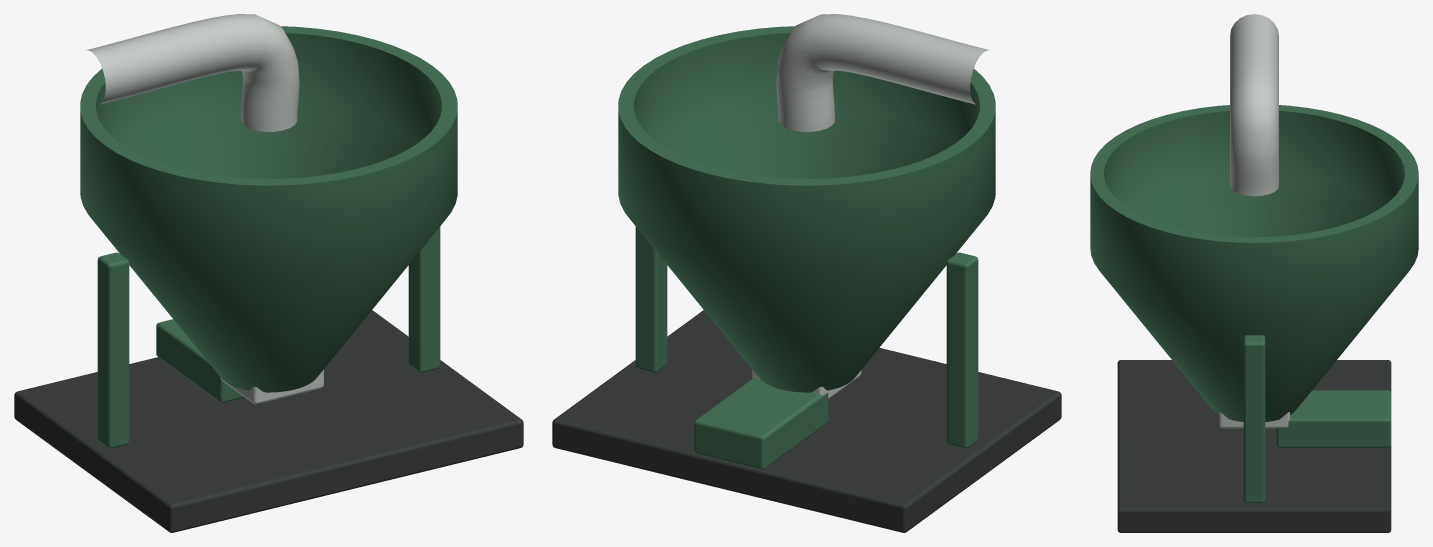
Rendered from sawmill-and-timber-yard-sawdust-collection-hopper-9fb7a7b9__31180.glb.
The picture shows the model from 3 angles, left to right: view 1: azimuth 30°, elevation 25°; view 2: azimuth 150°, elevation 25°; view 3: azimuth 270°, elevation 25°; orthographic projection. The views are drawn at different scales.
Visible parts, largest first — view 1: sawdust-collection-hopper; view 2: sawdust-collection-hopper; view 3: sawdust-collection-hopper.
Boxes of the visible parts, left/top/right/bottom form: sawdust-collection-hopper: left=14, top=14, right=523, bottom=532; sawdust-collection-hopper: left=552, top=14, right=1061, bottom=532; sawdust-collection-hopper: left=1090, top=14, right=1418, bottom=532.
Size of the model in its own units: 1.3 by 1.5 by 1.2.
